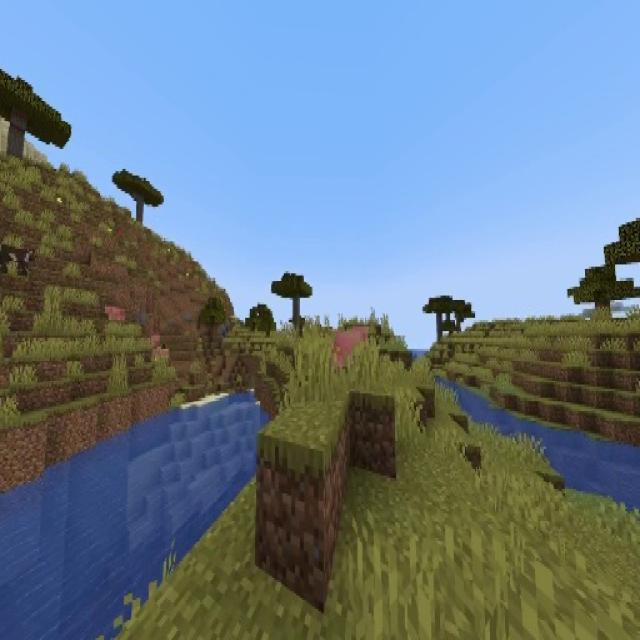acacia: (0, 64, 70, 172), (112, 170, 163, 227), (271, 270, 313, 330)
acacia_log: (8, 112, 26, 160), (293, 298, 300, 326), (137, 198, 144, 224)
oak: (569, 263, 638, 319)
